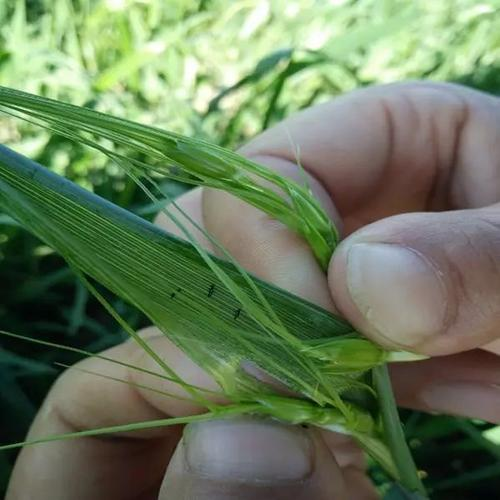Phlaeothripidae: (206, 284, 215, 303), (234, 307, 241, 326)
